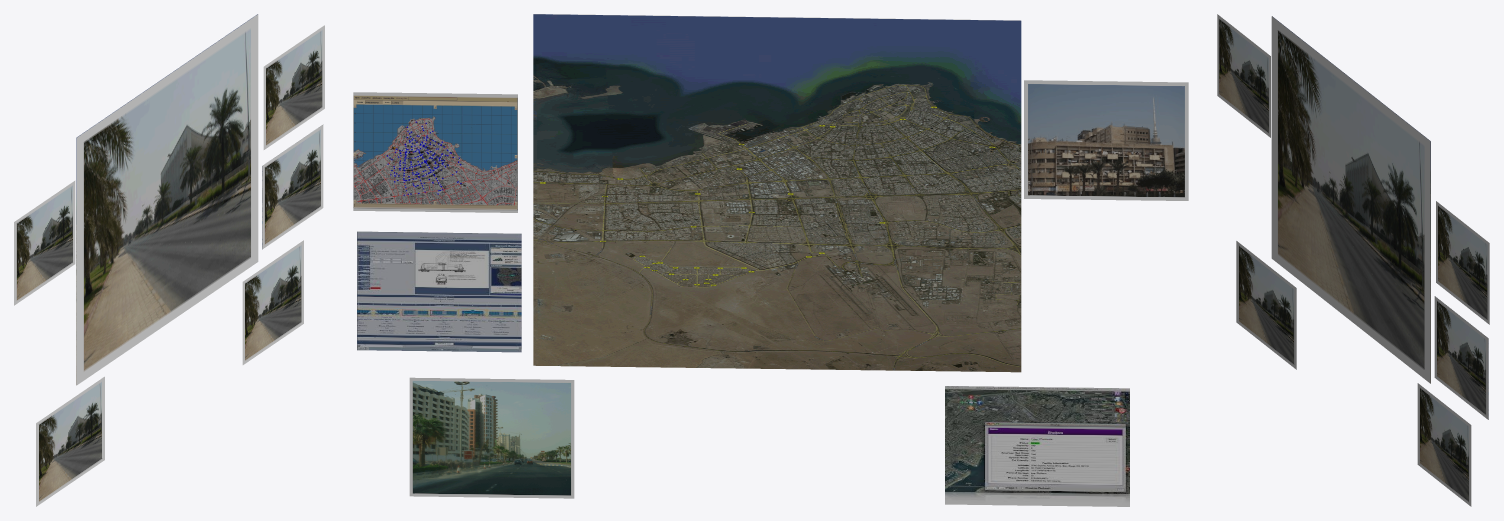
File: board_images2.DAE
3 views of the same model, side by side, from view 1: azimuth 30°, elevation 25°; view 2: azimuth 150°, elevation 25°; view 3: azimuth 270°, elevation 25° (orthographic). The views are drawn at different scales.
Parts seen in each view (by area): view 1: board_images2; view 2: board_images2; view 3: board_images2.
Boxes of the visible parts, x1=… form: board_images2: x1=14, y1=14, x2=324, y2=506; board_images2: x1=353, y1=14, x2=1188, y2=506; board_images2: x1=1217, y1=14, x2=1489, y2=506.
Size of the model in its own units: 65.28 by 35 by 47.4.
7 materials, 7 textured.
